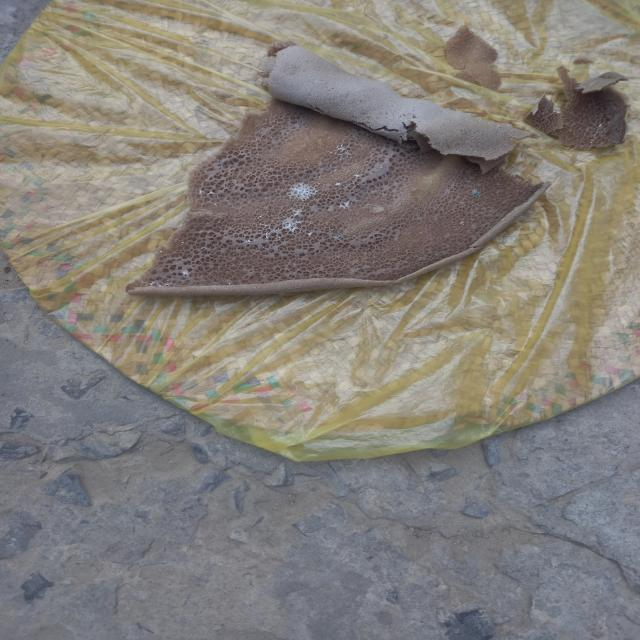injera_mold: (258, 216, 280, 246), (290, 183, 318, 200), (242, 231, 258, 250), (283, 216, 299, 231), (150, 280, 169, 290), (338, 144, 349, 160), (202, 188, 215, 198), (293, 208, 305, 217), (470, 188, 479, 198), (341, 200, 352, 208), (306, 230, 316, 237), (332, 234, 343, 240), (353, 172, 363, 178), (455, 221, 467, 226), (181, 270, 189, 277), (211, 202, 218, 208), (200, 246, 210, 250), (262, 224, 272, 228), (334, 181, 340, 187), (264, 232, 270, 238), (180, 241, 186, 246), (606, 122, 613, 126), (227, 280, 232, 285), (158, 251, 164, 255), (140, 280, 146, 284), (200, 232, 212, 234), (593, 135, 595, 144), (255, 250, 260, 253), (314, 82, 320, 84), (262, 247, 268, 249), (488, 122, 491, 125), (298, 166, 302, 168), (214, 251, 216, 255), (600, 125, 601, 132), (473, 150, 476, 152), (355, 143, 356, 147), (496, 125, 500, 126), (337, 256, 341, 257), (443, 111, 446, 112), (508, 124, 511, 125), (217, 278, 218, 281), (371, 136, 372, 138), (190, 244, 191, 246), (366, 134, 367, 135)
